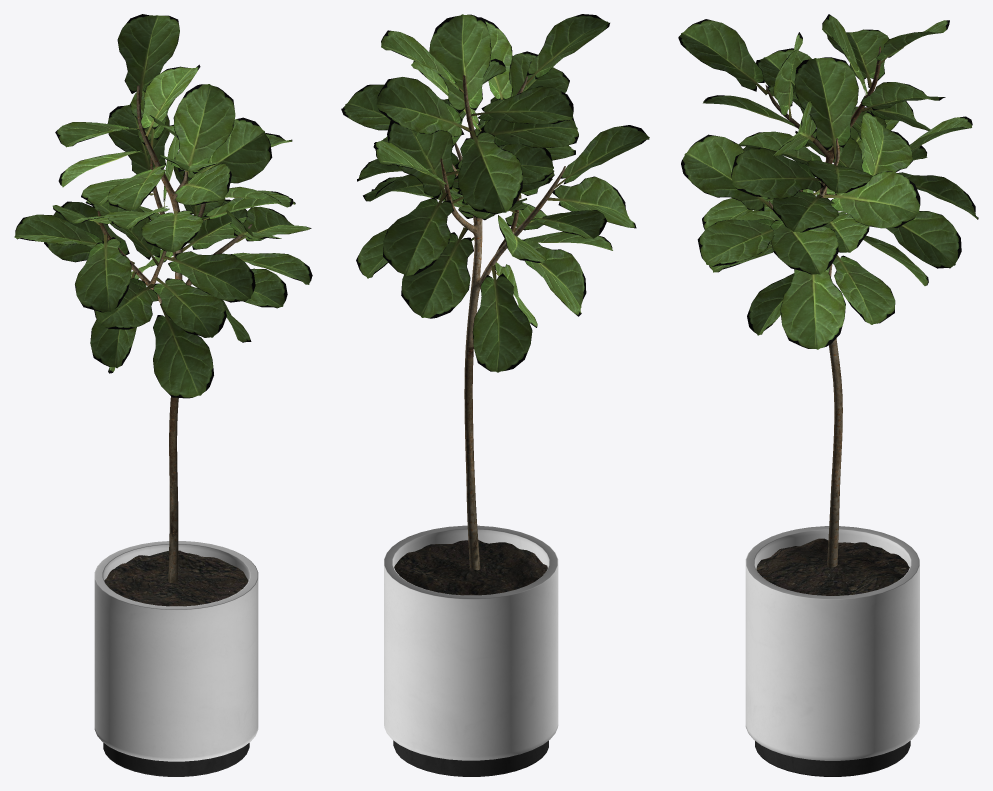
File: Maceta.fbx
3 renders of one model, left to right at view 1: azimuth 30°, elevation 25°; view 2: azimuth 150°, elevation 25°; view 3: azimuth 270°, elevation 25°, orthographic. The views are drawn at different scales.
Parts seen in each view (by area): view 1: Object_8, Object_6, Object_10; view 2: Object_8, Object_6, Object_10; view 3: Object_8, Object_6, Object_10.
Boxes of the visible parts, x1,y1,x2,y2 form: Object_8: [14, 14, 312, 398]; Object_6: [94, 541, 258, 776]; Object_10: [97, 85, 252, 582]; Object_8: [341, 14, 649, 372]; Object_6: [384, 525, 558, 776]; Object_10: [440, 75, 565, 570]; Object_8: [678, 14, 978, 349]; Object_6: [745, 526, 919, 776]; Object_10: [765, 46, 880, 567].
Bounding box in the file's own units: 7106 × 18128 × 6740.
Materials: 3 (3 with a texture image).
